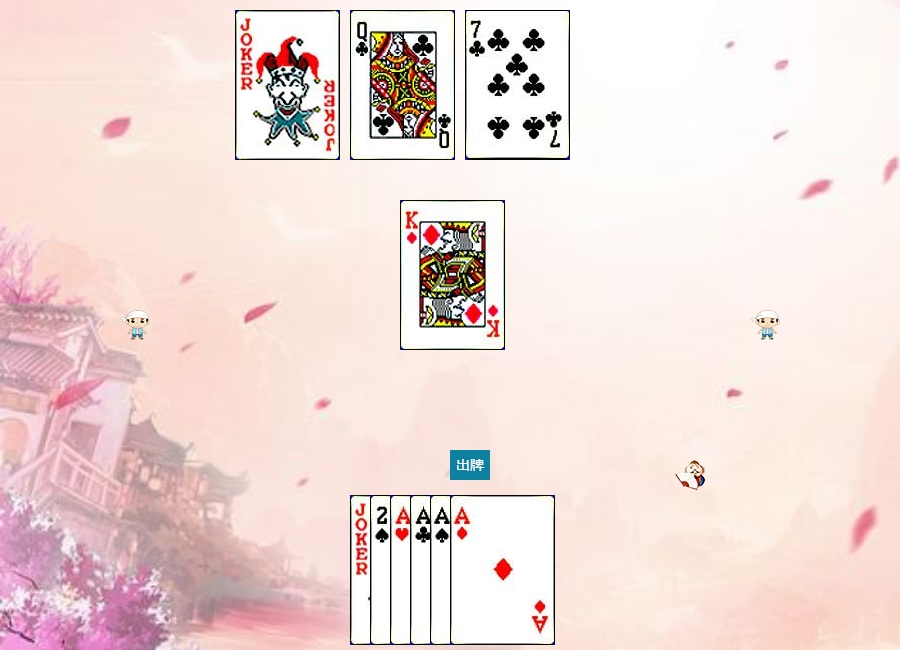12~2: (350, 10, 455, 160)
13~1: (400, 200, 505, 350)
14~1: (450, 495, 555, 645)
14~2: (410, 495, 515, 645)
14~3: (390, 495, 495, 645)
14~4: (430, 495, 535, 645)
15~4: (370, 495, 475, 645)
18~4: (235, 10, 340, 160), (350, 495, 455, 645)
7~2: (465, 10, 570, 160)
